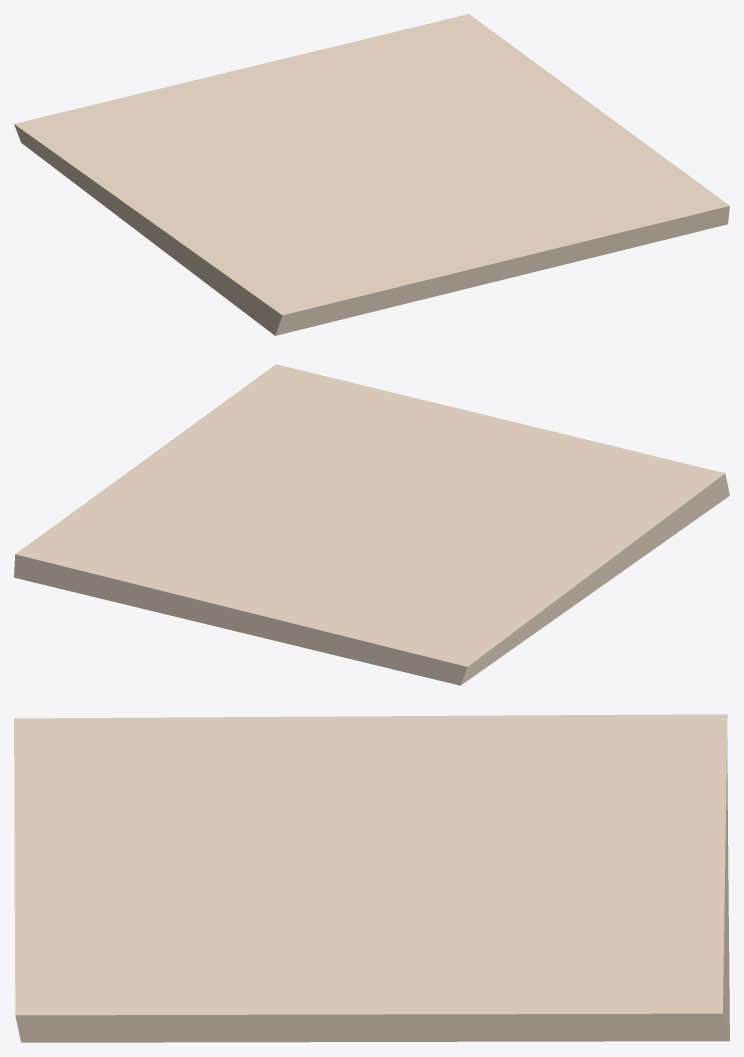
The model's file is furniture_napkin-square.fbx.
3 renders of one model, top to bottom at view 1: azimuth 30°, elevation 25°; view 2: azimuth 150°, elevation 25°; view 3: azimuth 270°, elevation 25°, orthographic. The views are drawn at different scales.
Parts seen in each view (by area): view 1: furniture_napkin_square; view 2: furniture_napkin_square; view 3: furniture_napkin_square.
Part boxes in pixels (box(x1,y1,x2,y2)): furniture_napkin_square: box(14, 14, 729, 335); furniture_napkin_square: box(14, 364, 729, 685); furniture_napkin_square: box(14, 714, 729, 1042).
Bounding box in the file's own units: 199 × 8.88 × 200.
